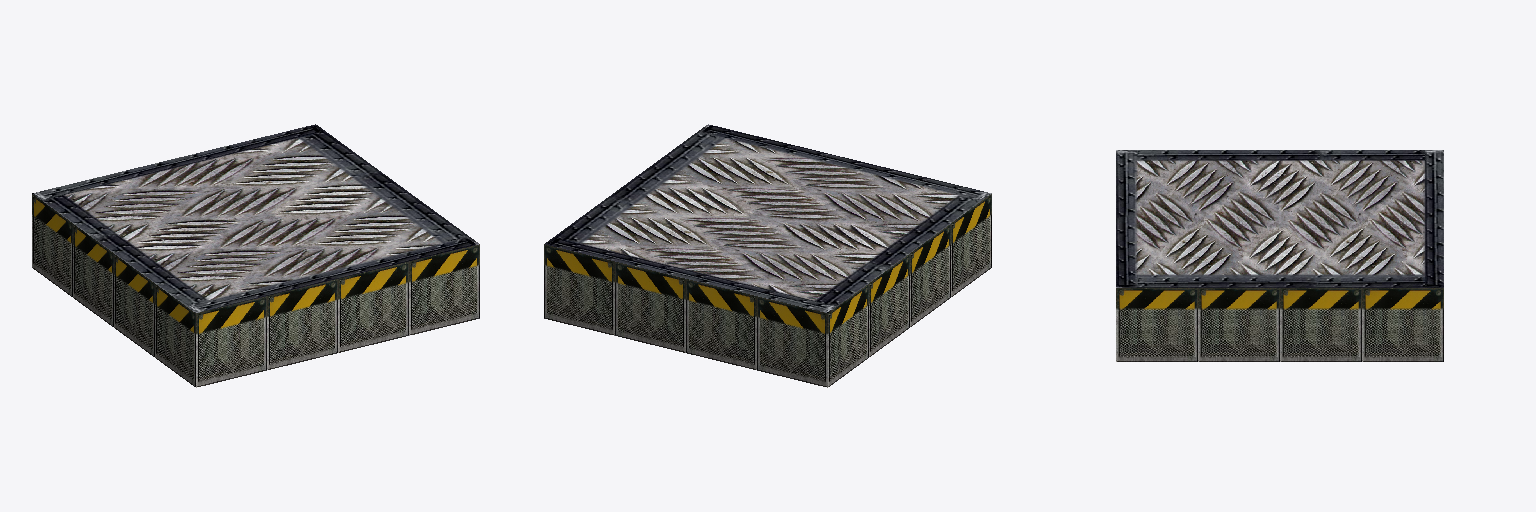
The picture shows the model from 3 angles: view 1: azimuth 30°, elevation 25°; view 2: azimuth 150°, elevation 25°; view 3: azimuth 270°, elevation 25°; orthographic projection.
Size of the model in its own units: 8 by 2 by 8.
1 materials, 1 textured.